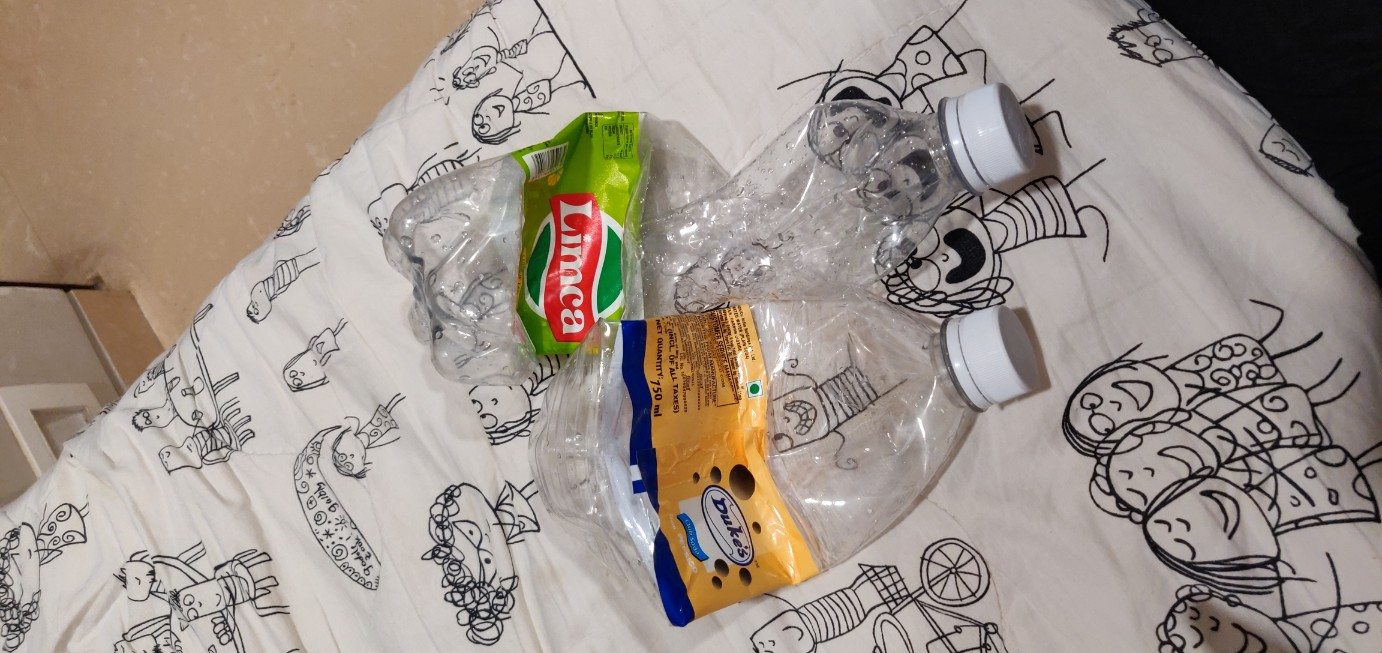Electronics: (362, 62, 1127, 399), (505, 274, 1117, 645)
